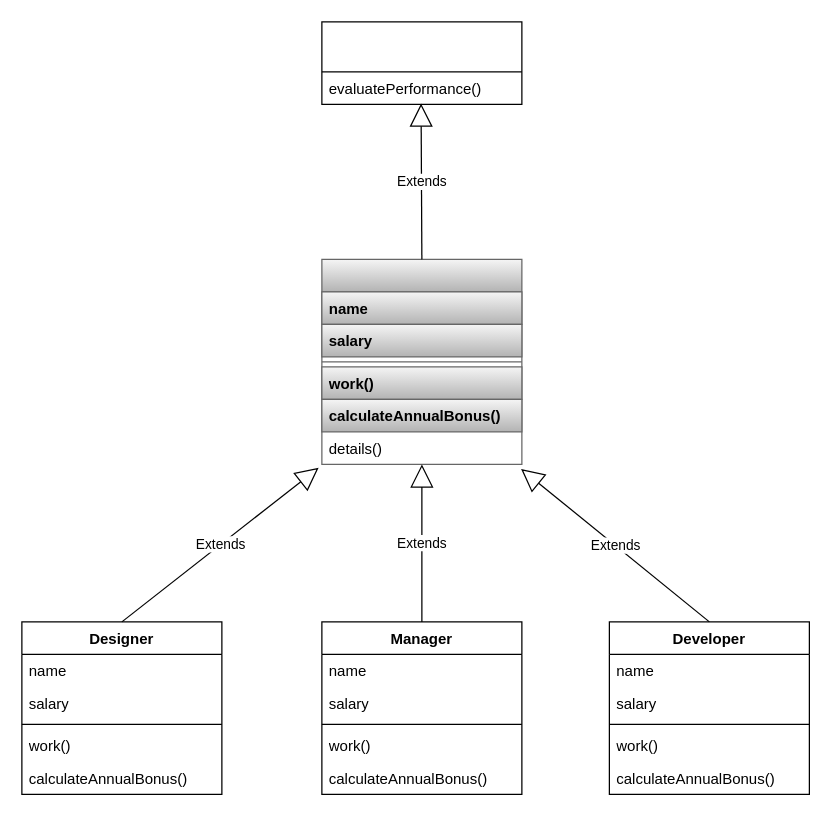
Some shapes in this 831 by 820 pixel diagram are drawn without their labels. Here are the shapes that lost their labels. From the top down, the box of each, then its label:
(321, 21, 522, 104): (Interface) Evaluable
(321, 258, 522, 464): Employee
